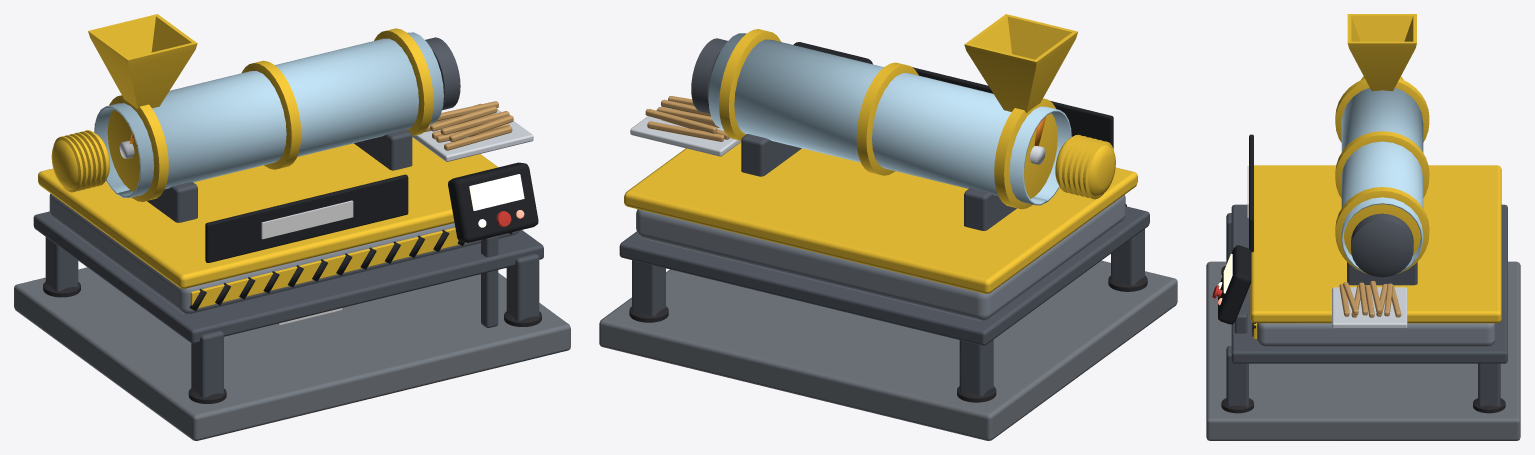
The model's file is Extruder.fbx.
3 views of the same model, side by side, from view 1: azimuth 30°, elevation 25°; view 2: azimuth 150°, elevation 25°; view 3: azimuth 270°, elevation 25° (orthographic). The views are drawn at different scales.
Parts seen in each view (by area): view 1: Body__Yellow, Body__Plate, Body__Glass, Body__MetalDark, Body__Black, Body__Steel, Body__Potato, Body__Chrome, Body__NeonYellow!1, Body__NeonGreen, Body__Rubber; view 2: Body__Yellow, Body__Plate, Body__Glass, Body__MetalDark, Body__Steel, Body__Black, Body__Potato, Body__Chrome, Body__Rubber; view 3: Body__Yellow, Body__Plate, Body__MetalDark, Body__Glass, Body__Steel, Body__Black, Body__Chrome, Body__Potato, Body__Rubber.
Part boxes in pixels (box(x1,y1,x2,y2)): Body__Yellow: box(38, 14, 497, 309); Body__Plate: box(14, 267, 570, 440); Body__Glass: box(94, 32, 443, 197); Body__MetalDark: box(33, 37, 543, 398); Body__Black: box(189, 162, 538, 310); Body__Steel: box(49, 193, 519, 314); Body__Potato: box(424, 101, 513, 150); Body__Chrome: box(412, 109, 533, 161); Body__NeonYellow!1: box(261, 200, 353, 239); Body__NeonGreen: box(469, 174, 524, 227); Body__Rubber: box(43, 282, 541, 403); Body__Yellow: box(624, 14, 1137, 293); Body__Plate: box(599, 260, 1177, 440); Body__Glass: box(708, 33, 1071, 205); Body__MetalDark: box(619, 38, 1149, 396); Body__Steel: box(636, 195, 1125, 320); Body__Black: box(793, 42, 1126, 206); Body__Potato: box(645, 96, 729, 141); Body__Chrome: box(630, 106, 741, 156); Body__Rubber: box(629, 275, 1147, 402); Body__Yellow: box(1250, 14, 1501, 339); Body__Plate: box(1206, 261, 1520, 440); Body__MetalDark: box(1226, 204, 1507, 406); Body__Glass: box(1341, 88, 1423, 272); Body__Steel: box(1257, 323, 1495, 347); Body__Black: box(1218, 134, 1255, 336); Body__Chrome: box(1332, 287, 1407, 328); Body__Potato: box(1339, 281, 1401, 317); Body__Rubber: box(1221, 265, 1505, 413).
Size of the model in its own units: 7.05 by 5.34 by 5.
